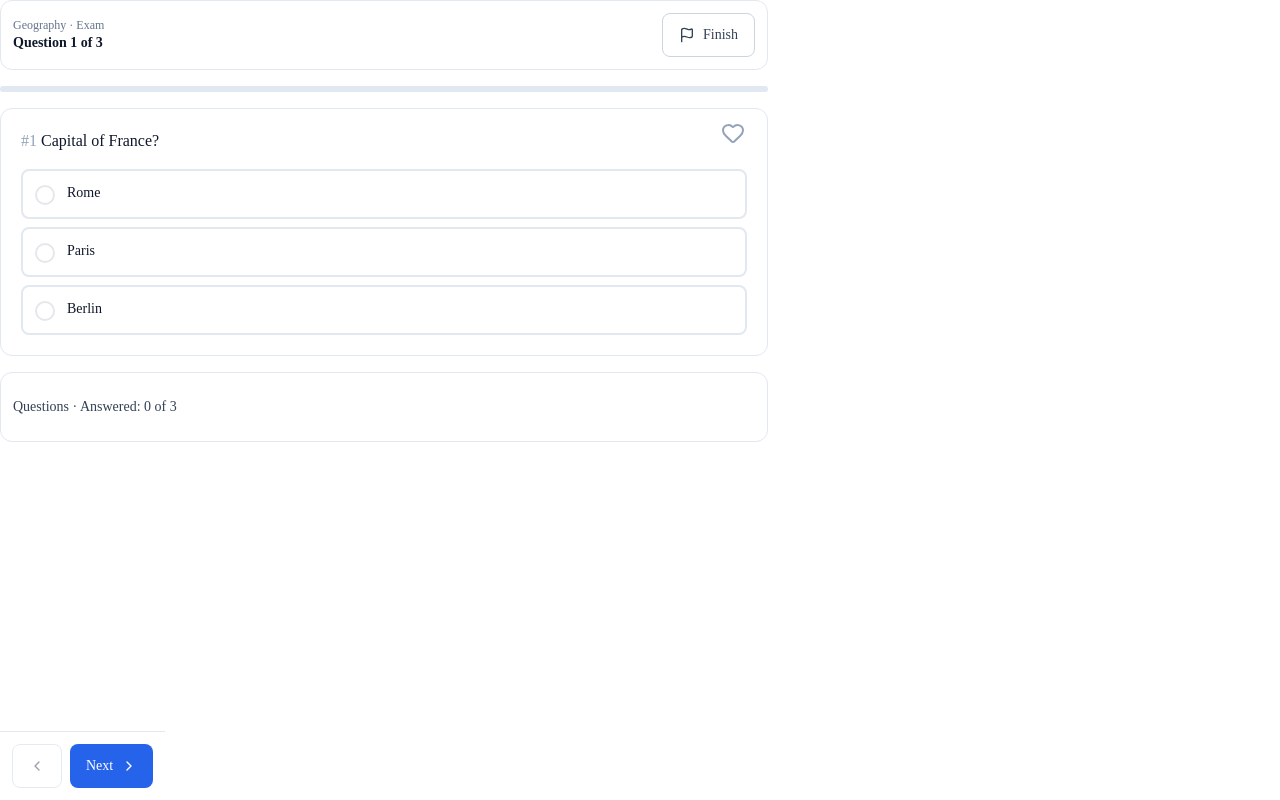
Test case: exam › gives no feedback while answering, asks before leaving questions blank, then records everything
The width and height of the screenshot is (1280, 800).
Click the radio button labelled "Paris" at (45,253), box [21, 227, 747, 277]
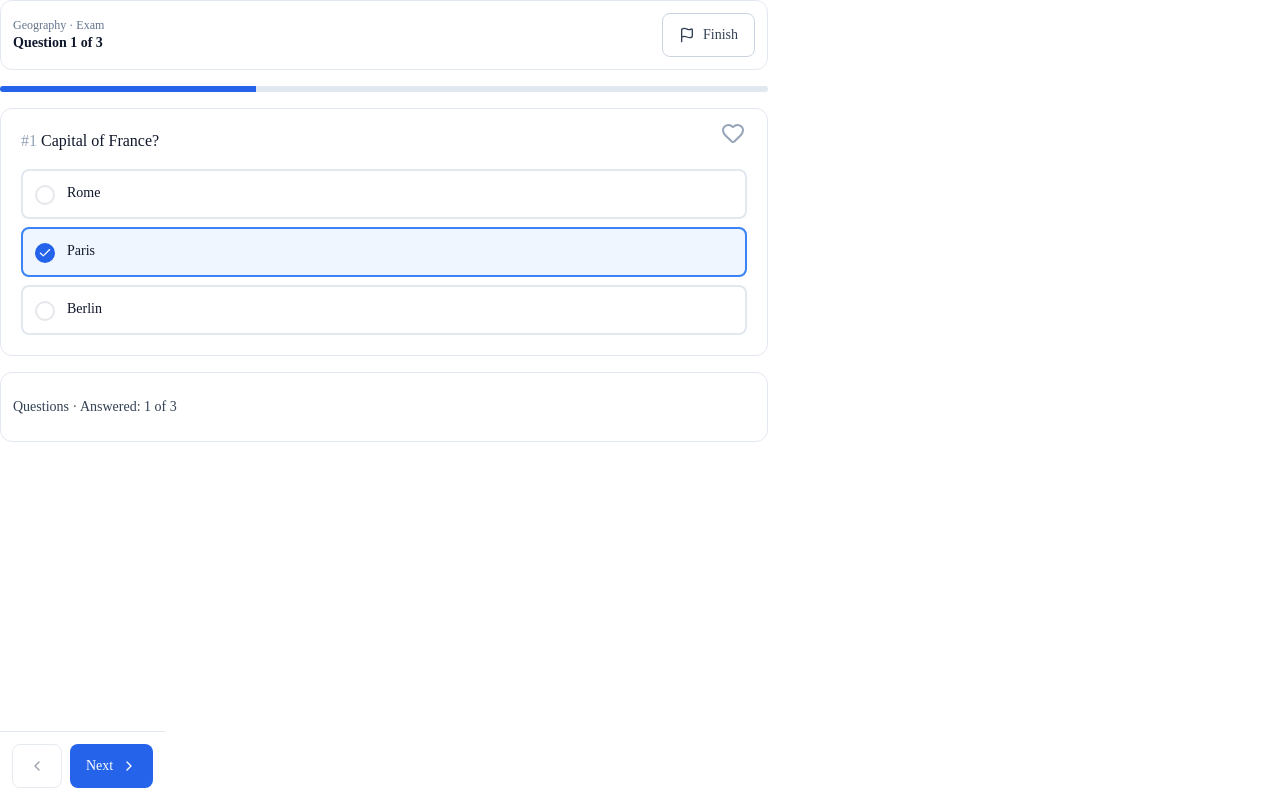
Click the button "Next" at (112,766), box [70, 744, 153, 788]
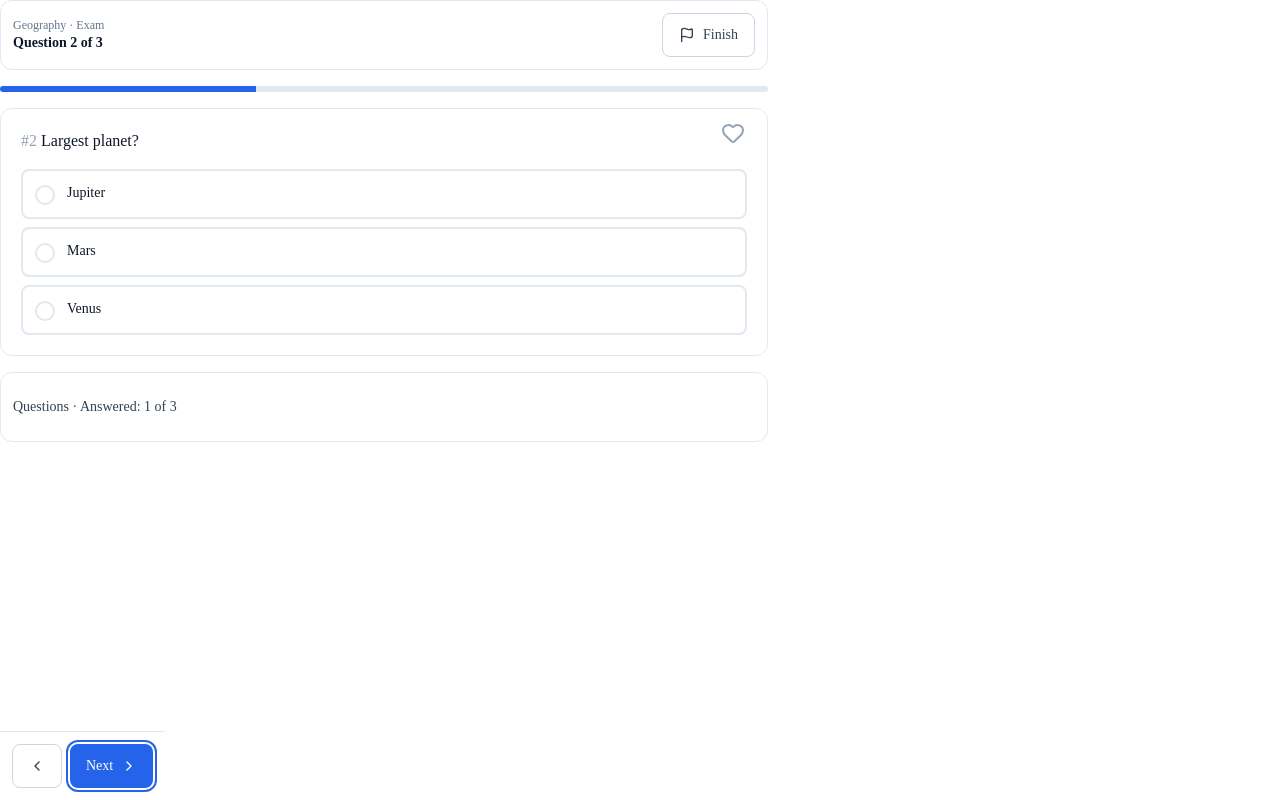
Click the radio button labelled "Mars" at (45,253), box [21, 227, 747, 277]
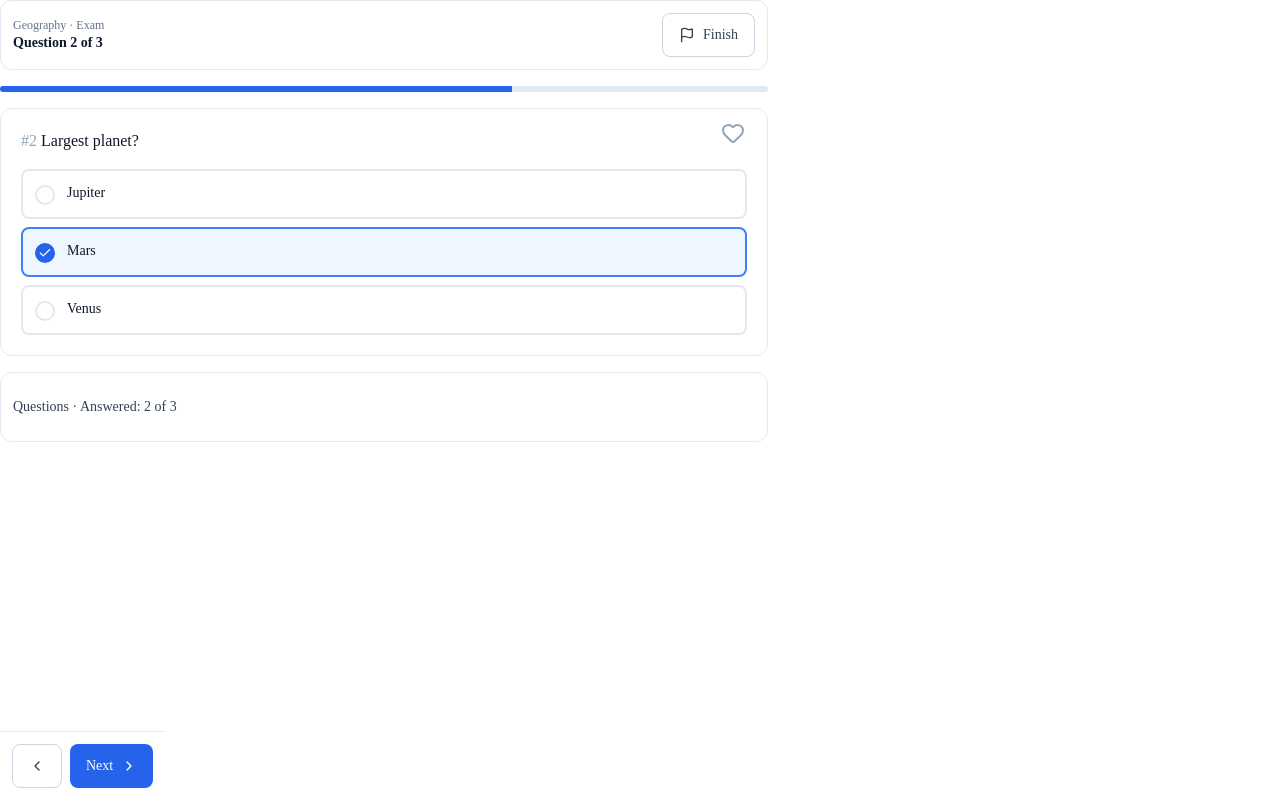
Click the button "Finish" at (708,35), box [662, 13, 755, 57]
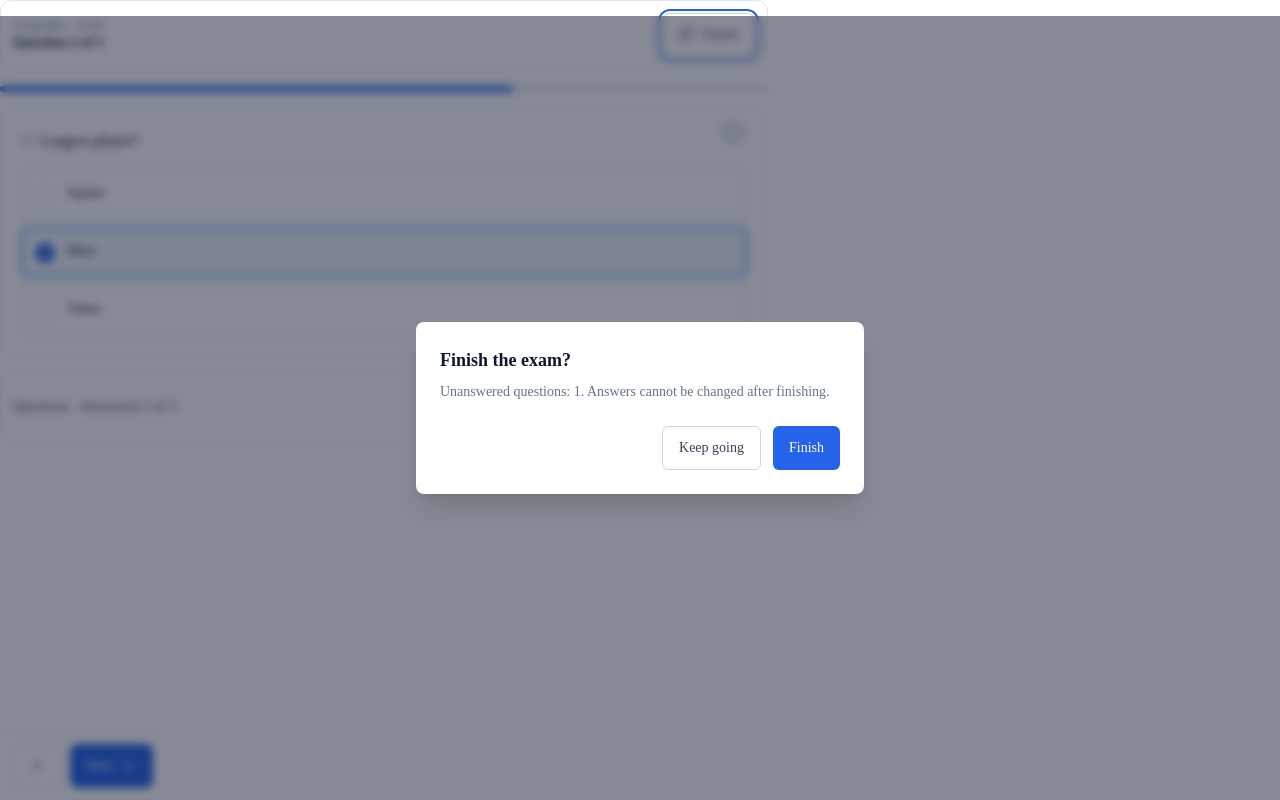
Now the text "Unanswered questions: 1" is shown, box [440, 384, 830, 399]
Click the button "Finish" at (806,448), box [773, 426, 840, 470]
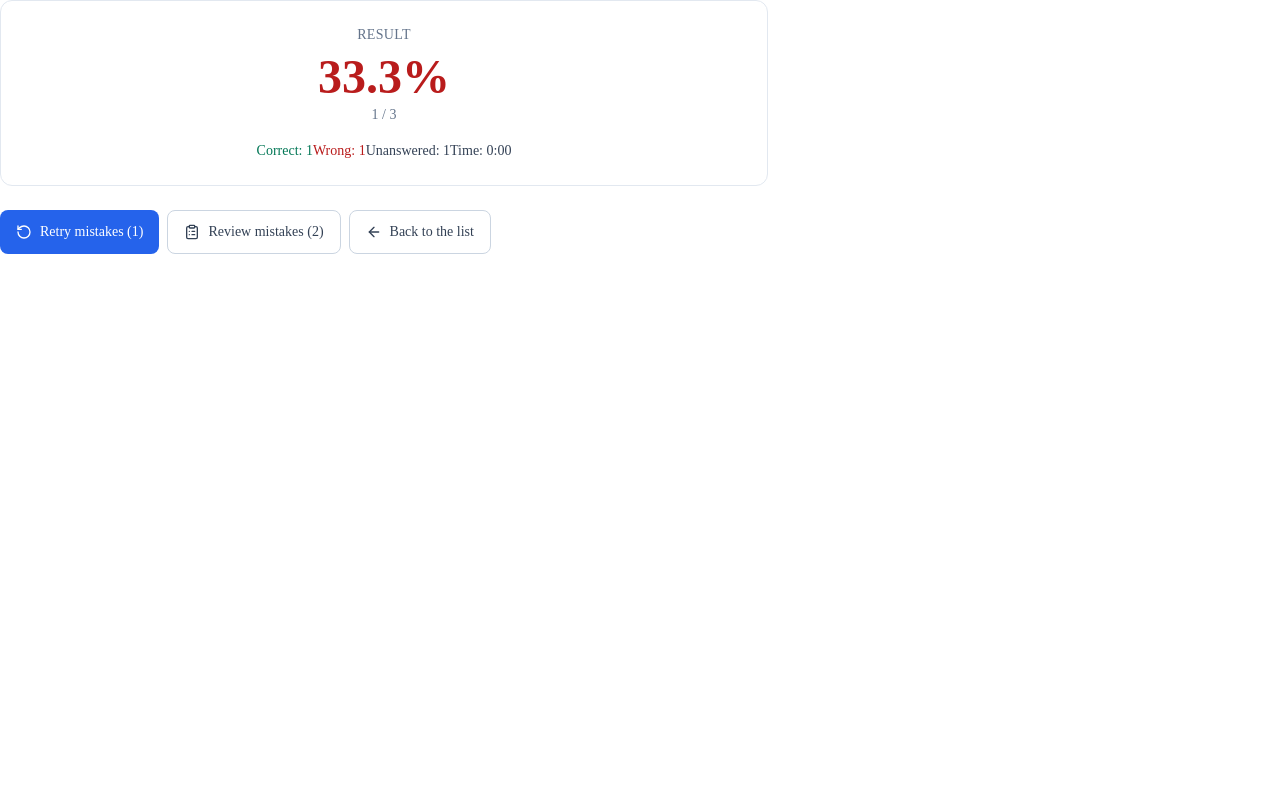
Now the heading "Result" is shown, box [357, 27, 411, 42]
Now the text "33.3%" is shown, box [318, 50, 450, 103]
Now the list item "Correct: 1" is shown, box [257, 141, 313, 161]
